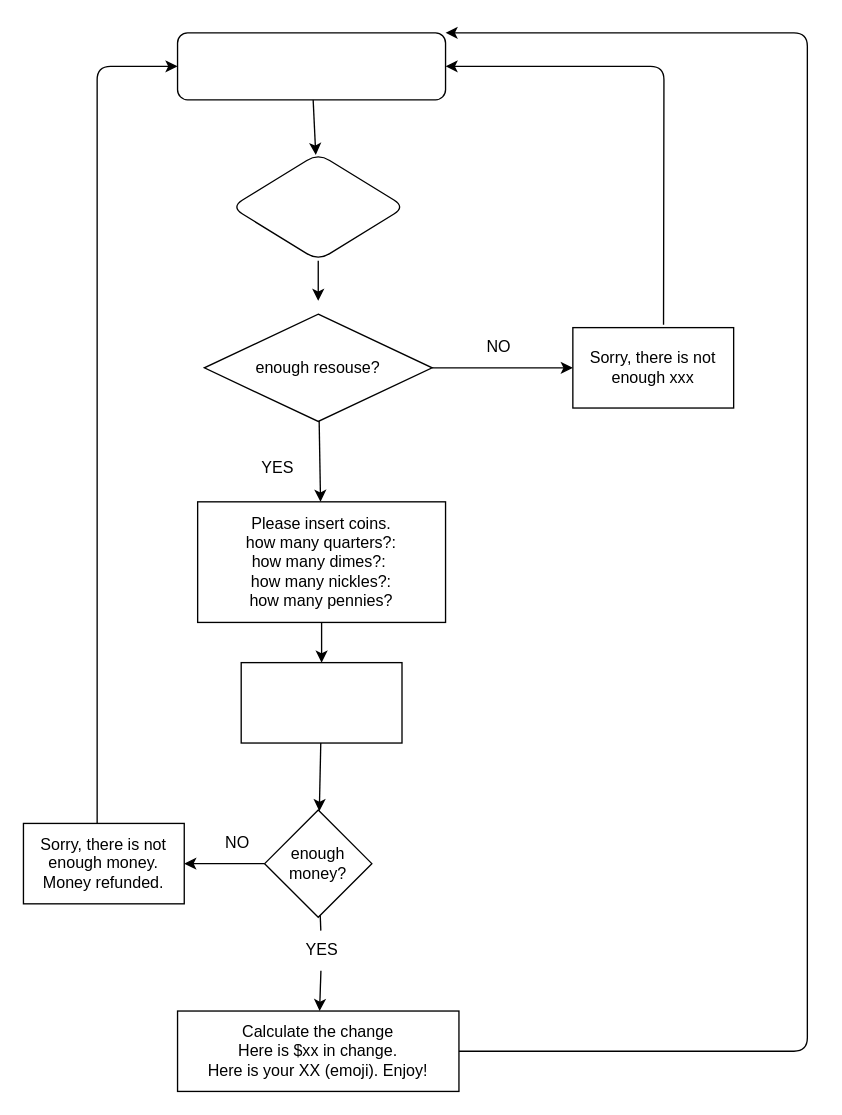
Some shapes in this 842 by 1115 pixel diagram are drawn without their labels. The box of each missing label's shape, as (x1, y1, x2, y2) in pixels:
Calculate the total money $: (240, 661, 402, 743)
make a choice: (230, 152, 405, 261)
what would you like? (espresso/latte/cappuccino):: (176, 31, 446, 100)
